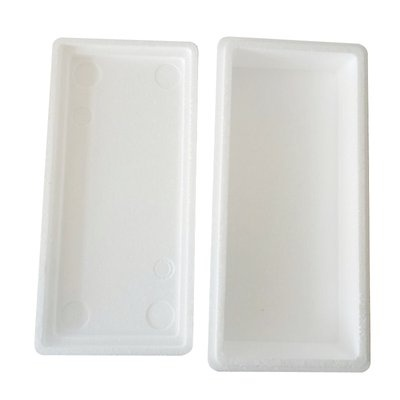5/可回收垃圾/泡沫: (208, 36, 372, 374), (34, 38, 199, 355)
